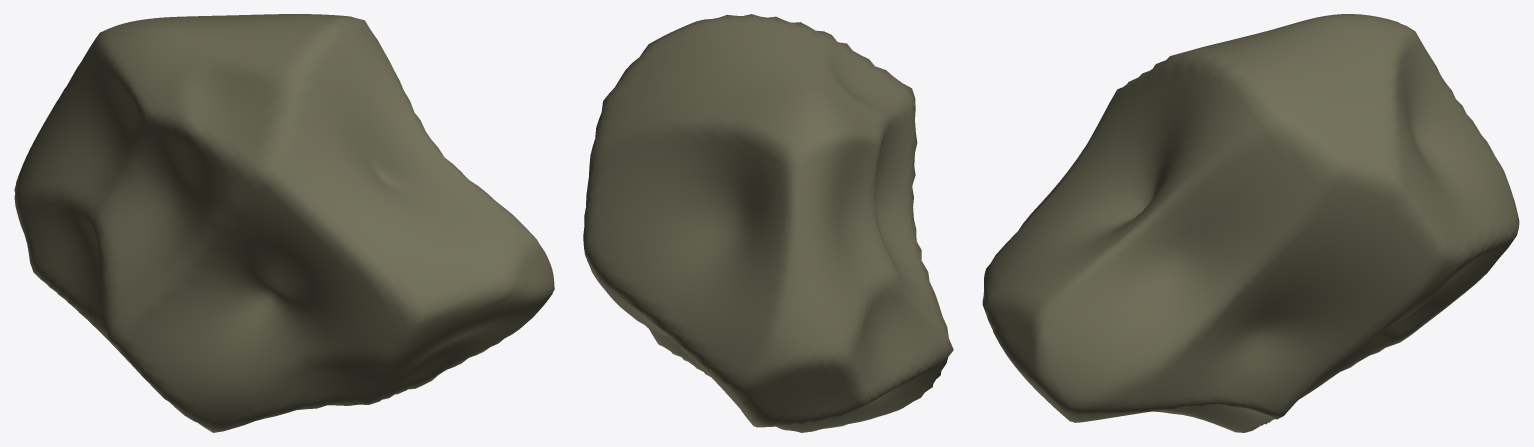
The model's file is rock-02.fbx.
3 renders of one model, left to right at view 1: azimuth 30°, elevation 25°; view 2: azimuth 150°, elevation 25°; view 3: azimuth 270°, elevation 25°, orthographic. The views are drawn at different scales.
Parts seen in each view (by area): view 1: rock-02; view 2: rock-02; view 3: rock-02.
Part boxes in pixels (x1=…): rock-02: x1=14, y1=14, x2=554, y2=432; rock-02: x1=583, y1=14, x2=953, y2=432; rock-02: x1=982, y1=14, x2=1519, y2=432.
Size of the model in its own units: 34.45 by 34.12 by 42.07.
